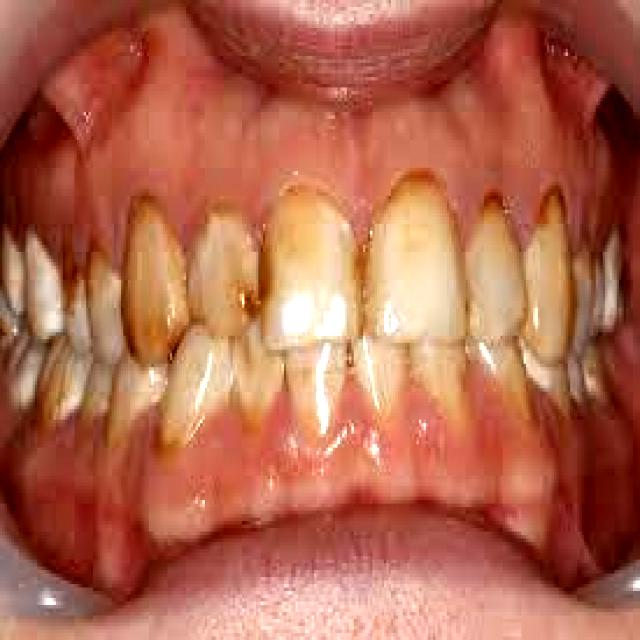tooth-discoloration: (121, 199, 189, 360), (521, 192, 573, 360), (189, 210, 256, 332), (107, 353, 165, 444)
